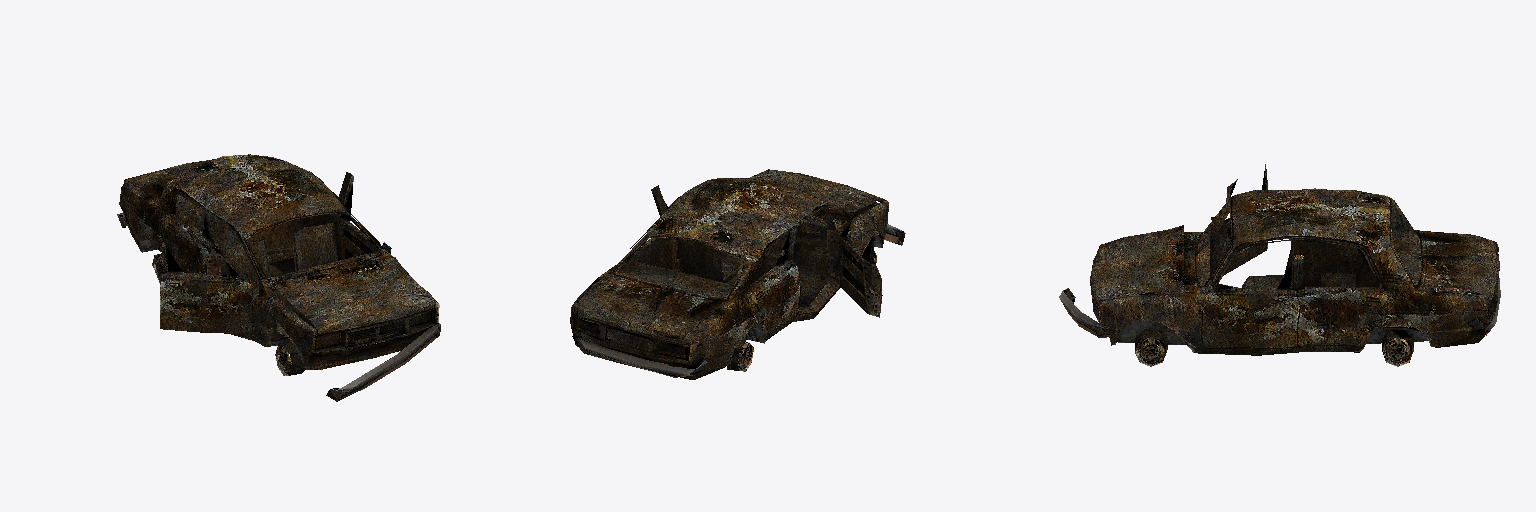
The picture shows the model from 3 angles: view 1: azimuth 30°, elevation 25°; view 2: azimuth 150°, elevation 25°; view 3: azimuth 270°, elevation 25°; orthographic projection.
Parts seen in each view (by area): view 1: default; view 2: default; view 3: default.
Part boxes in pixels (left/top/right/bottom): default: left=117, top=154, right=440, bottom=401; default: left=570, top=169, right=905, bottom=379; default: left=1059, top=164, right=1500, bottom=366.
Size of the model in its own units: 4.93 by 2.84 by 8.94.
Materials: 1 (1 with a texture image).